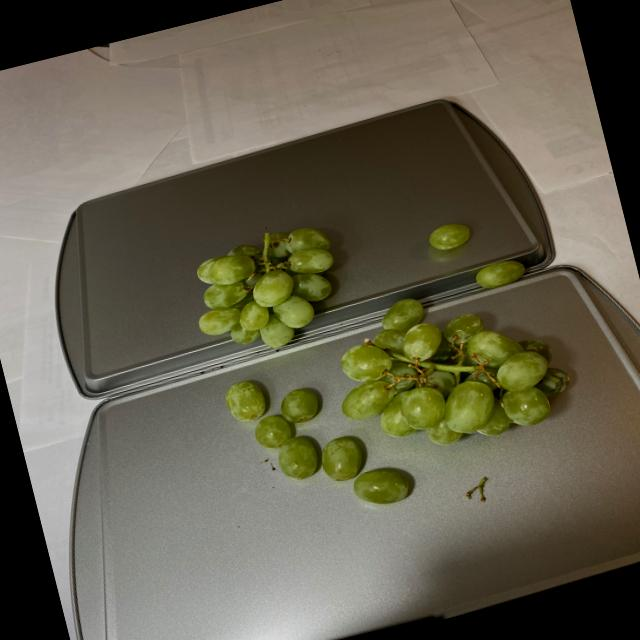grapes: (183, 171, 592, 537)
